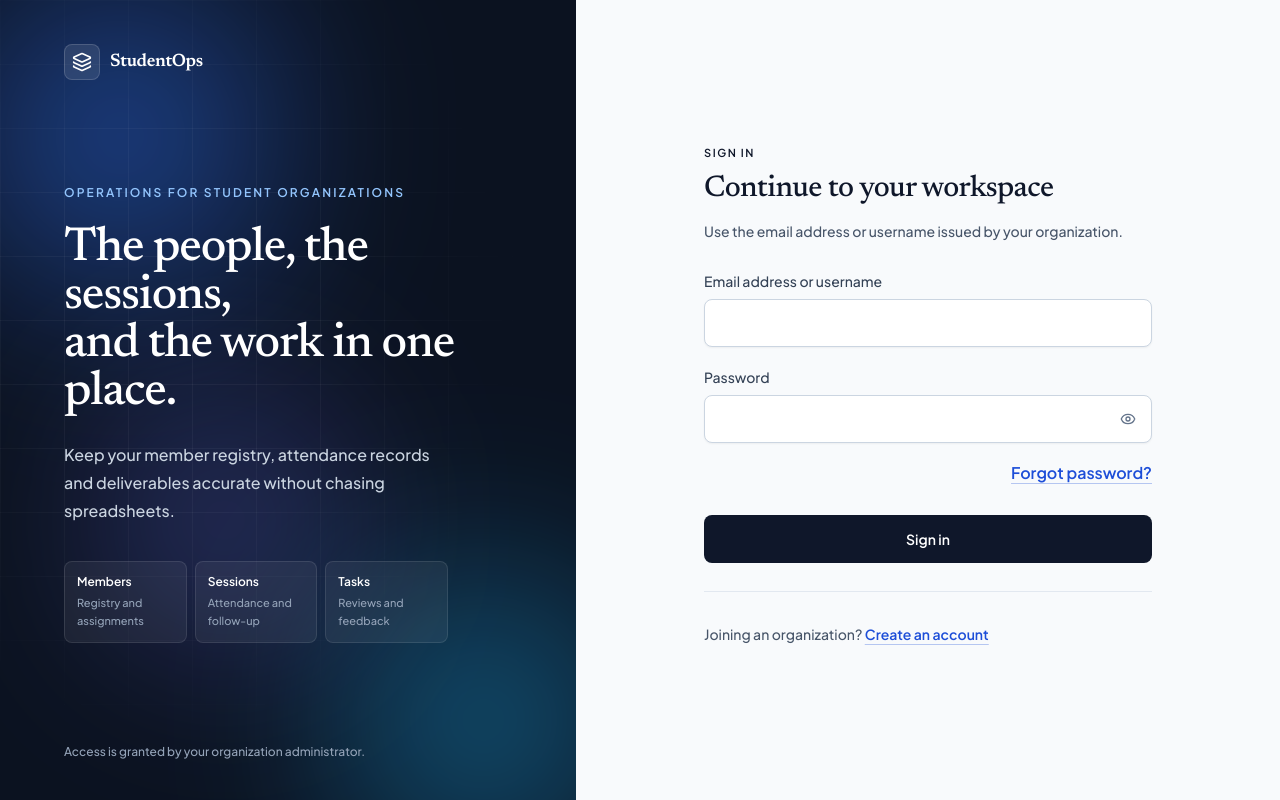
Scenario: Login › exposes no demo accounts and toggles password visibility
Type "unchanged password" into the password field labelled "Password" at (928, 418), box [704, 394, 1152, 442]
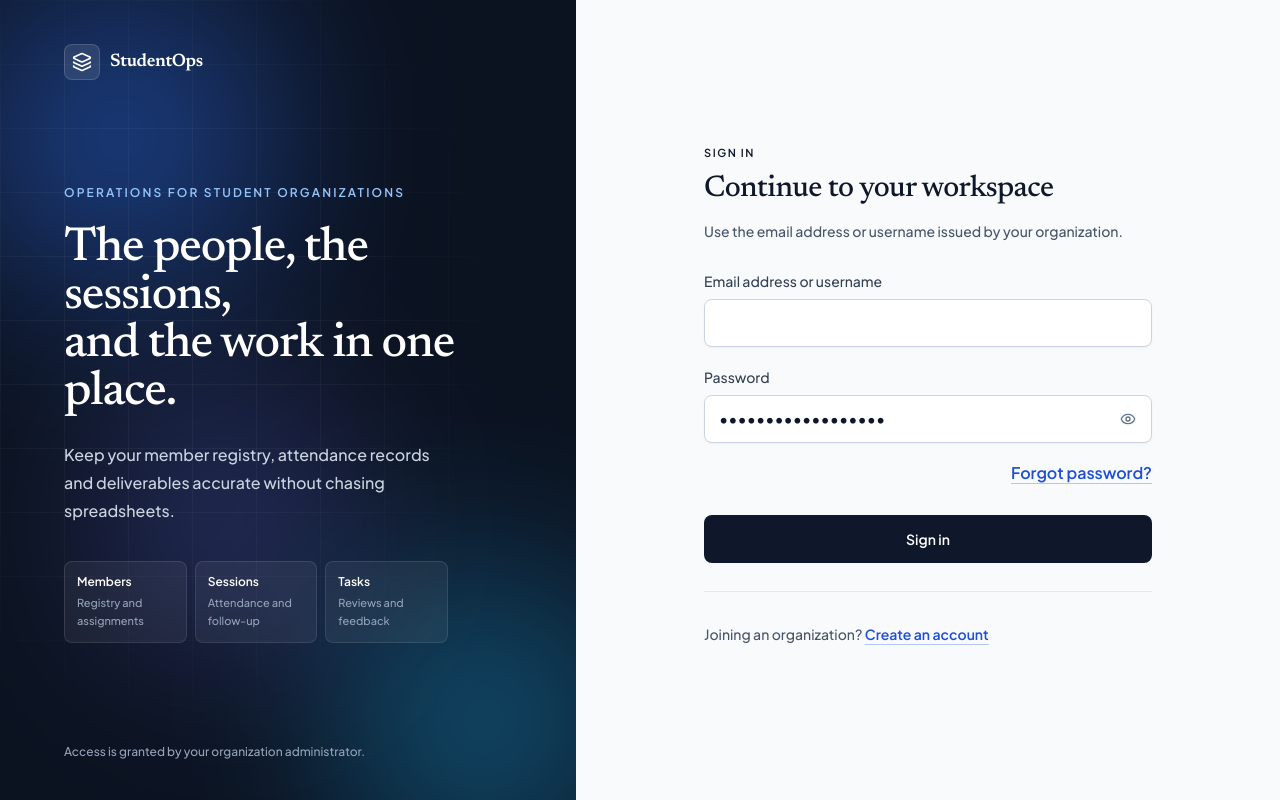
Click the button named "Show password" at (1128, 418), box [1104, 394, 1152, 442]
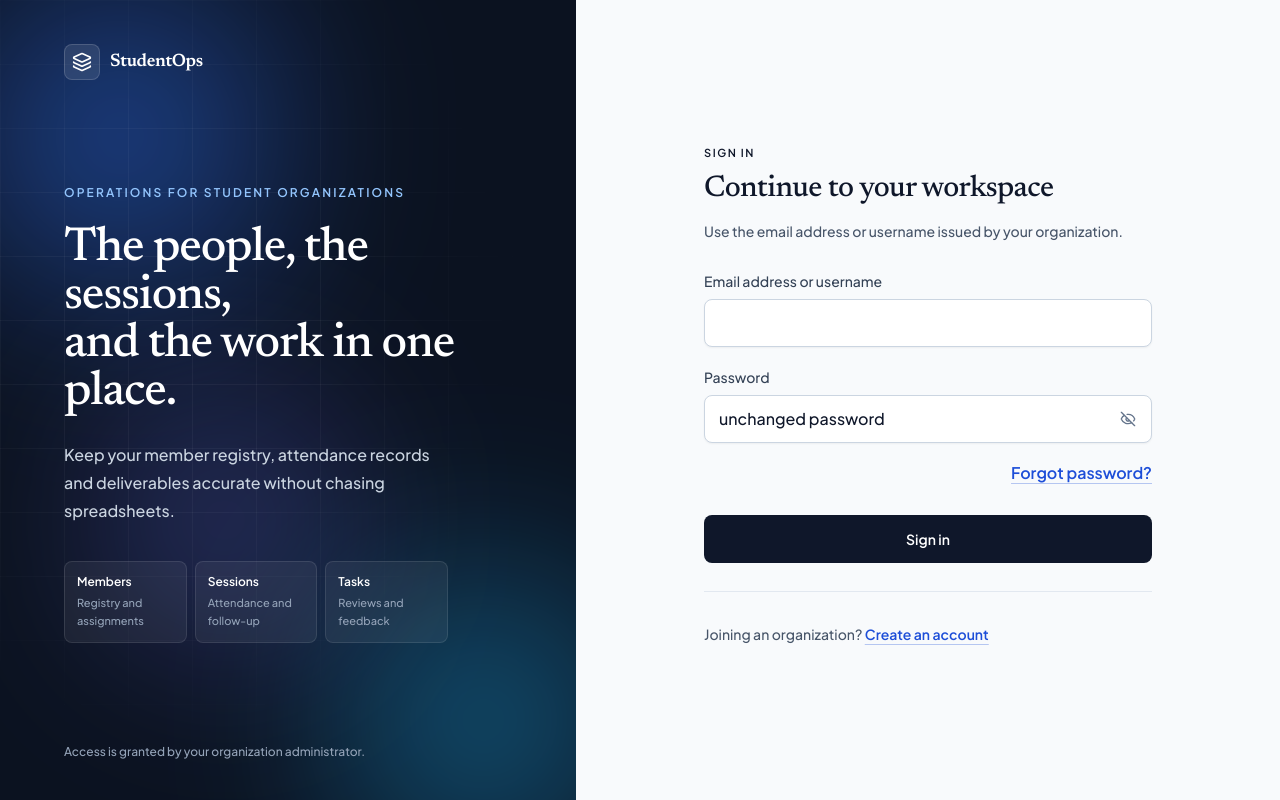
Expected: the field labelled "Password" shows its text, [704, 394, 1152, 442]
Click the button named "Hide password" at (1128, 418), box [1104, 394, 1152, 442]
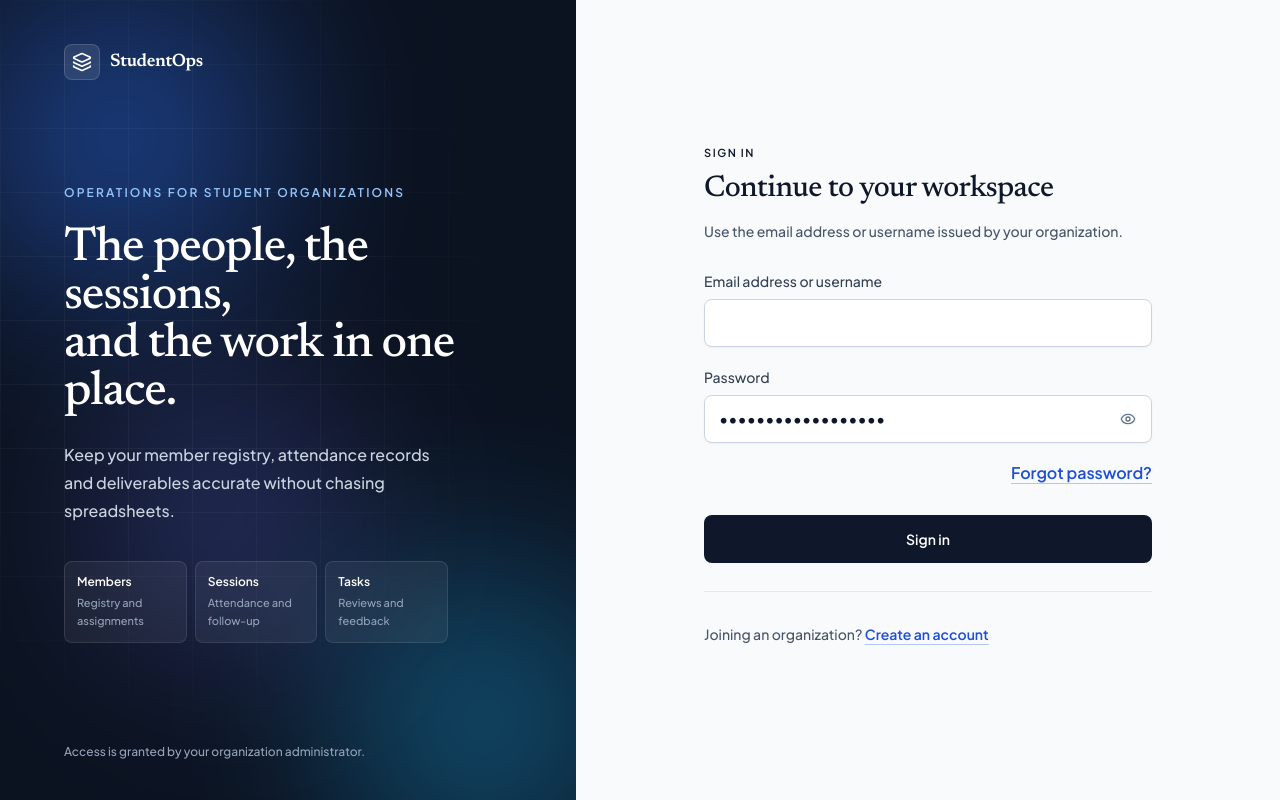
Expected: the password field labelled "Password" hides its text, [704, 394, 1152, 442]
